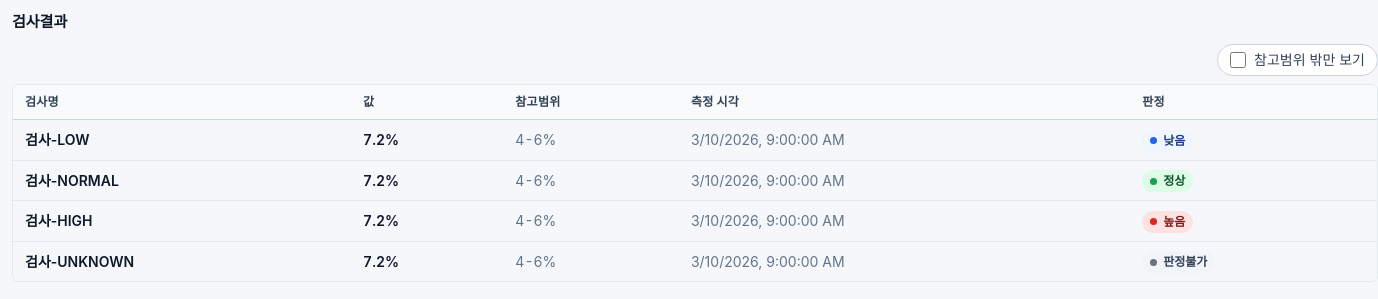
LabResultsTableSection out-of-range filter › shows only HIGH and LOW results when the out-of-range filter is checked
Click the checkbox labelled "참고범위 밖만 보기".
click(1238, 60)  # box [1230,52,1246,68]
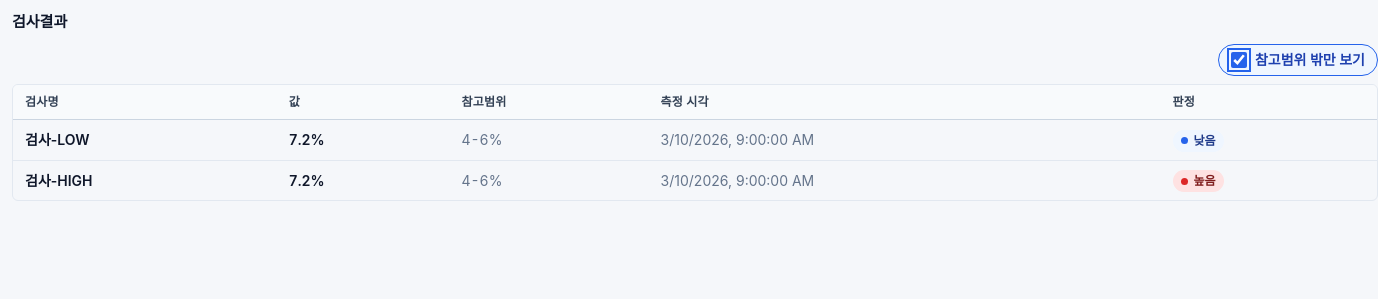
Expected: the text "검사-LOW" is shown, [13,120,277,160]
Result: the text "검사-NORMAL" is gone
Result: the text "검사-UNKNOWN" is gone
